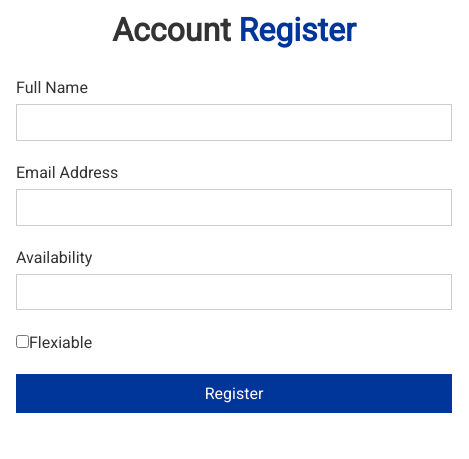
Test case: <Form /> › should input the valid email address.
This screenshot has width=469, height=459.
In the field with id "name": (234, 123) x1=16 y1=104 x2=452 y2=141, type "Samundra"
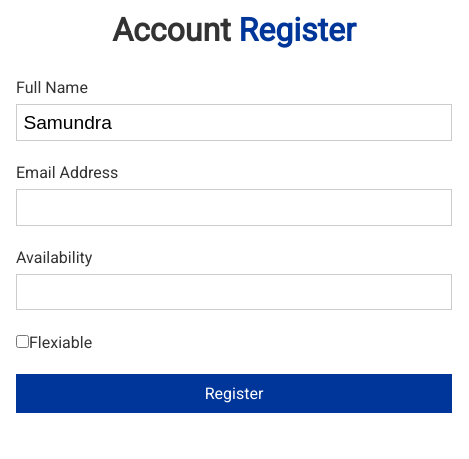
In the field with id "email": (234, 207) x1=16 y1=189 x2=452 y2=226, type "abc"
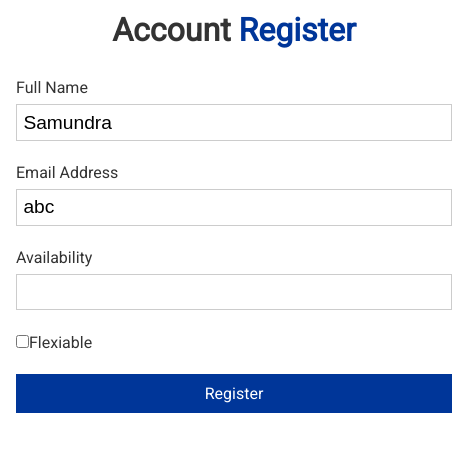
Submit the form
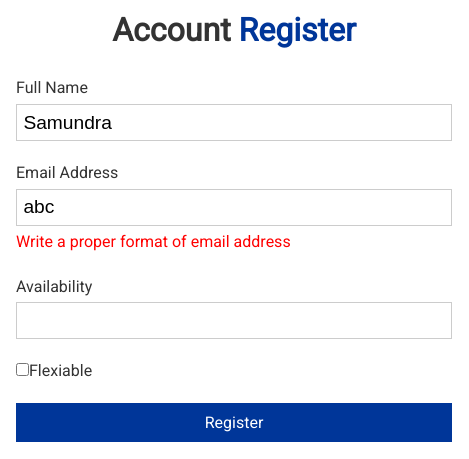
Now the text with id "email-error" reads "Write a proper format of email address", box x1=16 y1=232 x2=291 y2=251
